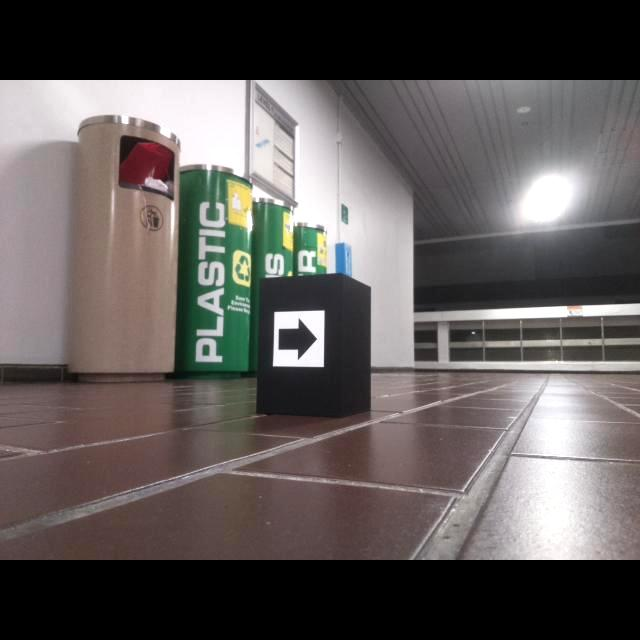RIGHT: (278, 318, 317, 360)
